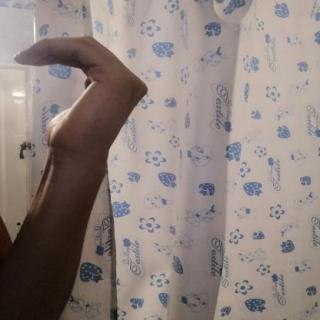HAA: (4, 27, 162, 172)
